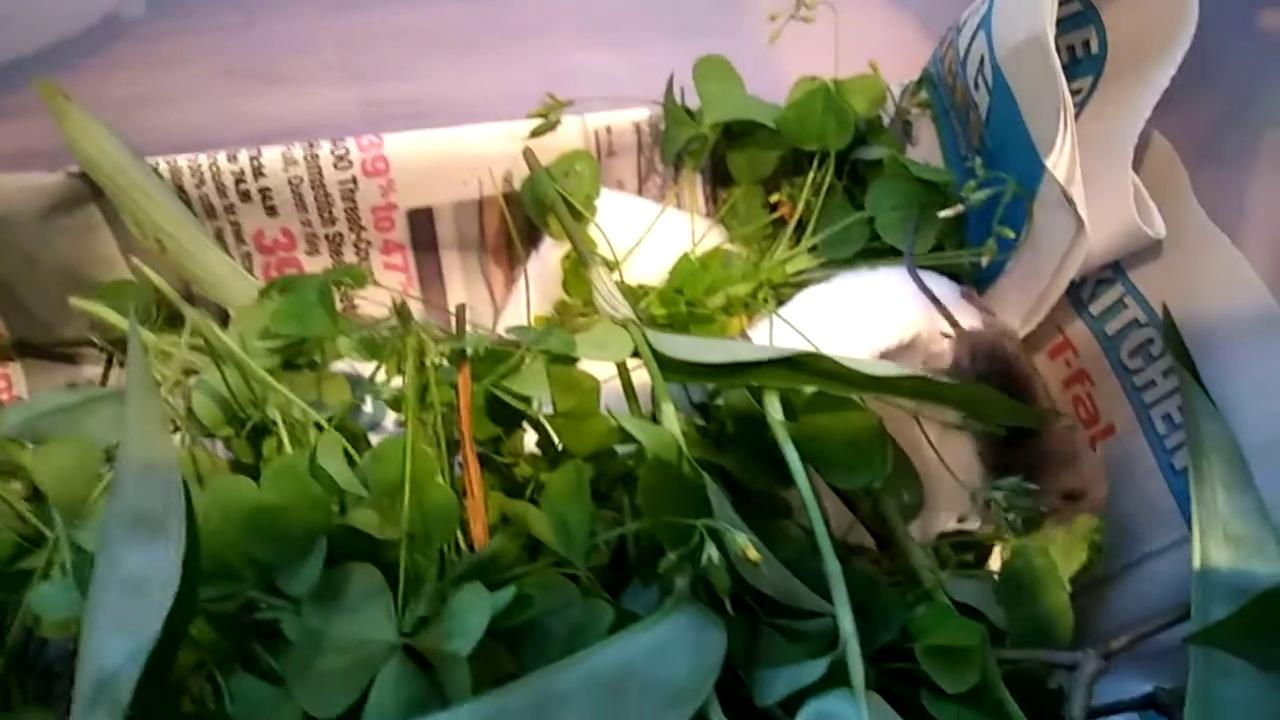rat: (907, 242, 1070, 529)
